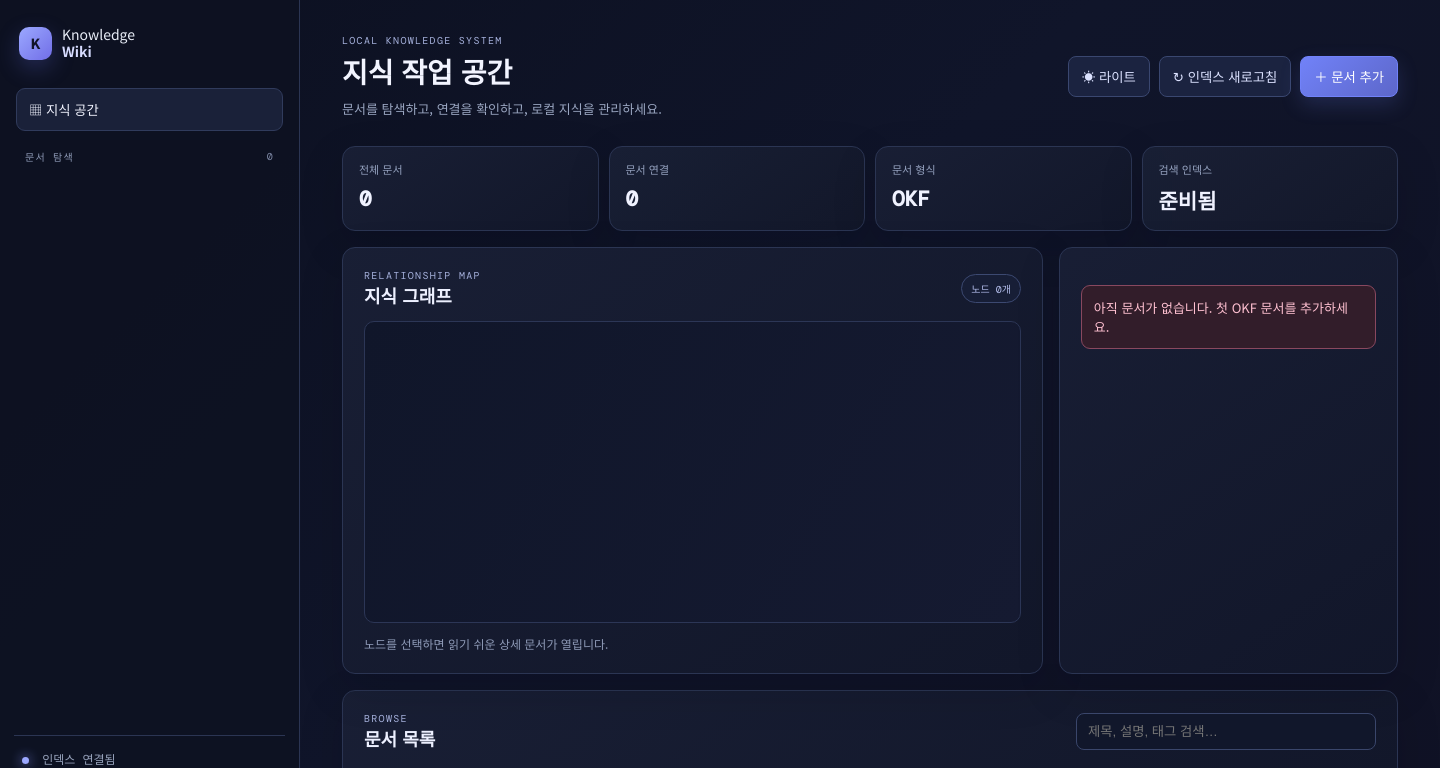
Test: persists an explicit light and dark color mode choice
Click the button with aria-label "라이트 모드로 전환" at (1109,76), box [1068,56,1150,96]
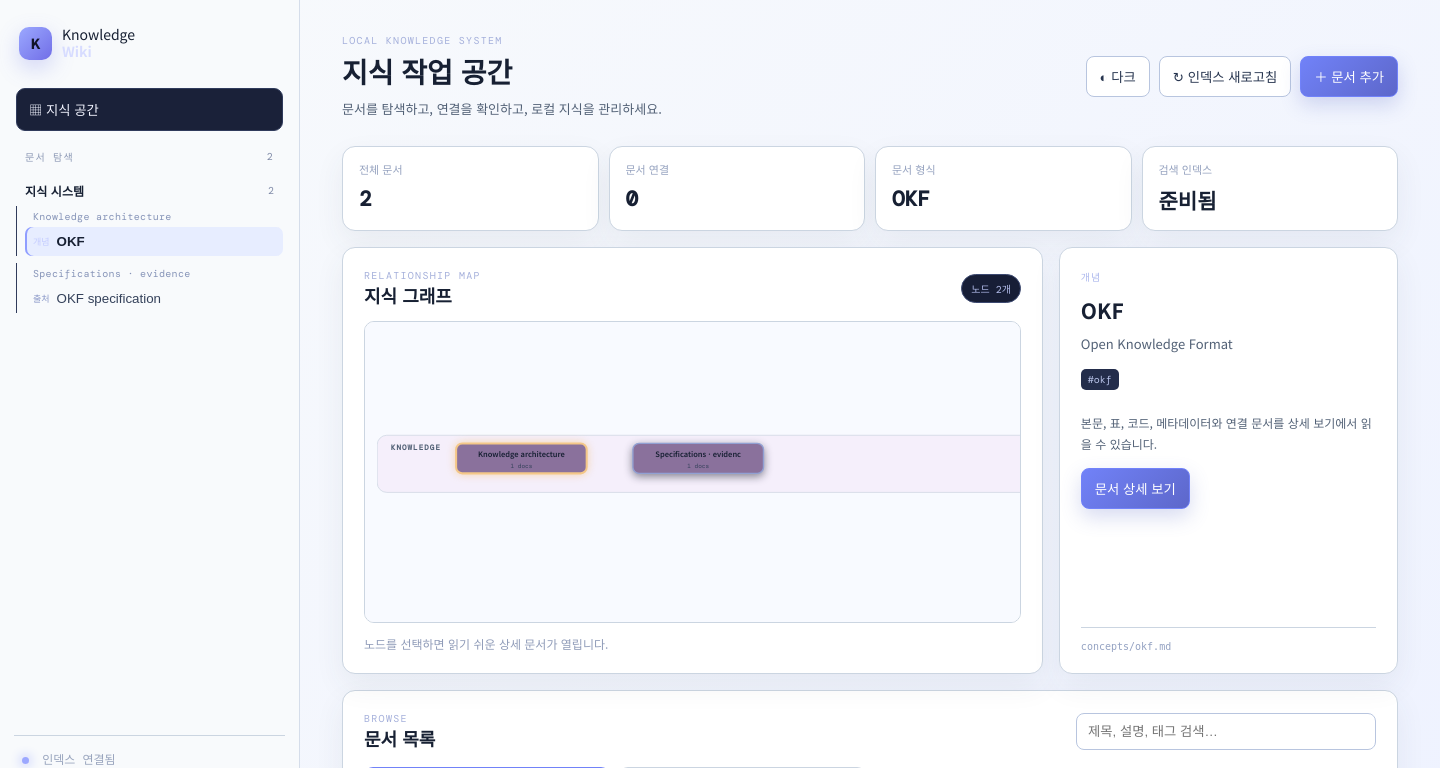
Check: the button with aria-label "다크 모드로 전환" is shown, box [1086,56,1150,96]
